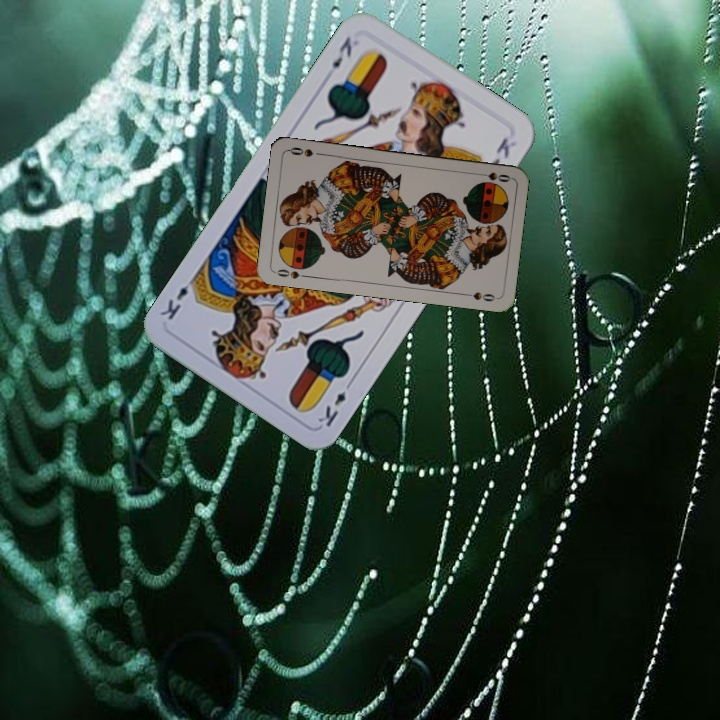EK: (313, 375, 356, 430), (328, 32, 355, 71)
SO: (473, 168, 513, 185), (271, 265, 311, 281)
